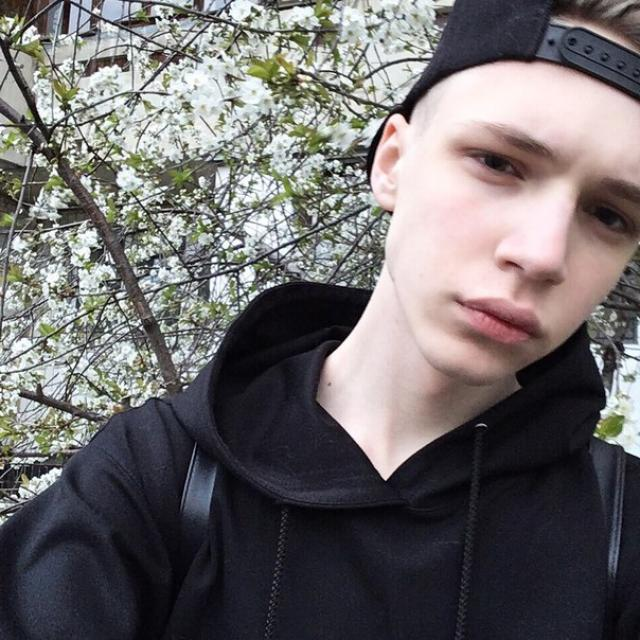earlobe: (370, 113, 409, 213)
